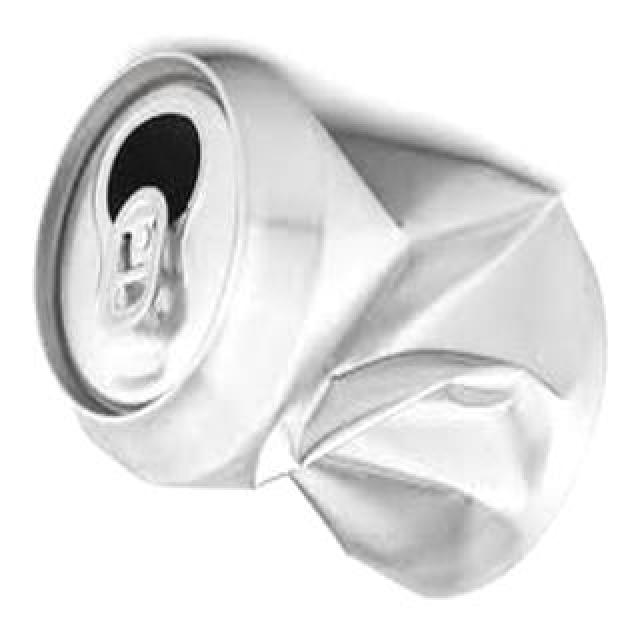Can: (29, 30, 615, 614)
